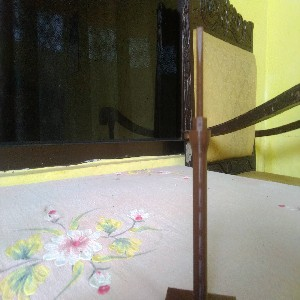obeng: (189, 25, 212, 300)
